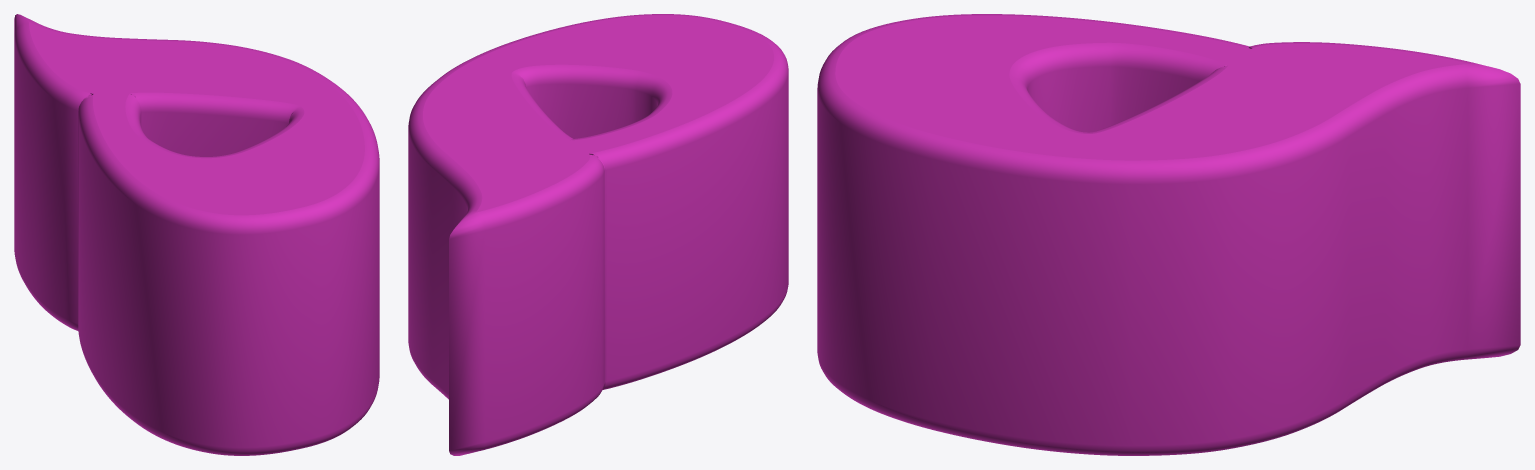
The picture shows the model from 3 angles, left to right: view 1: azimuth 30°, elevation 25°; view 2: azimuth 150°, elevation 25°; view 3: azimuth 270°, elevation 25°; orthographic projection. The views are drawn at different scales.
Visible parts, largest first — view 1: Text.127; view 2: Text.127; view 3: Text.127.
Boxes of the visible parts, box(x1,y1,x2,y2) form: Text.127: box(14, 14, 379, 455); Text.127: box(408, 14, 788, 455); Text.127: box(817, 14, 1520, 455).
Bounding box in the file's own units: 21.04 × 18 × 39.03.
